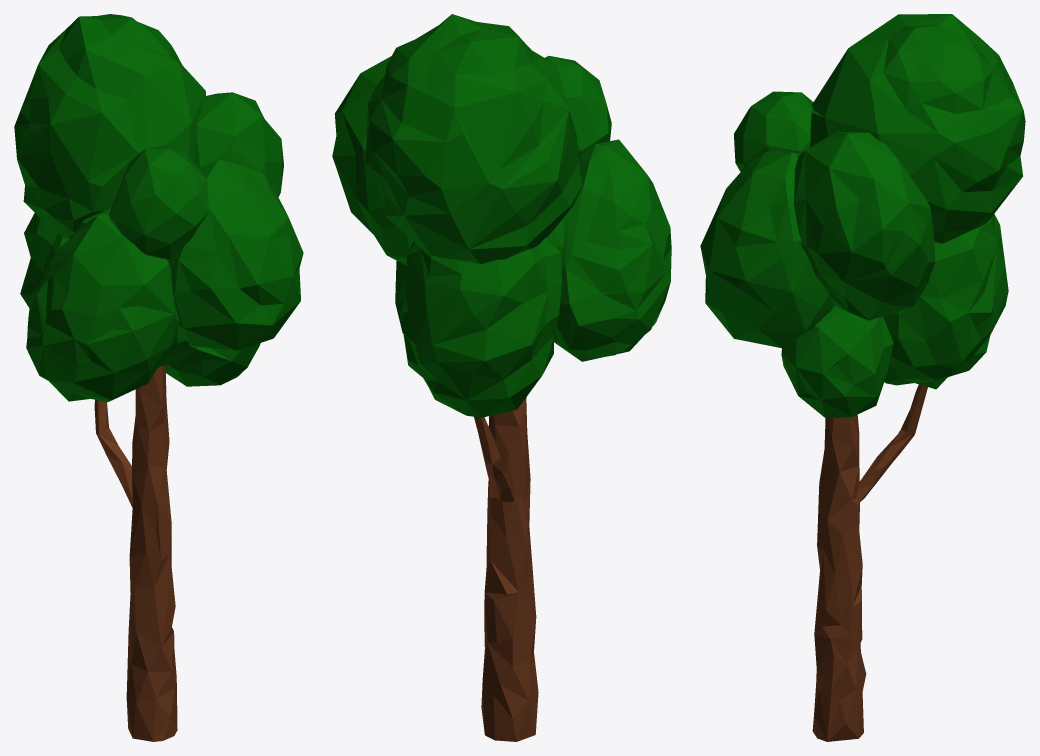
The model's file is Birch.fbx.
3 renders of one model, left to right at view 1: azimuth 30°, elevation 25°; view 2: azimuth 150°, elevation 25°; view 3: azimuth 270°, elevation 25°, orthographic. The views are drawn at different scales.
Visible parts, largest first — view 1: birch.001, birch; view 2: birch.001, birch; view 3: birch.001, birch.
Part boxes in pixels (<box>): birch.001: <box>14,14,303,402</box>; birch: <box>94,365,177,741</box>; birch.001: <box>332,14,671,417</box>; birch: <box>474,397,538,741</box>; birch.001: <box>700,14,1025,418</box>; birch: <box>812,384,927,741</box>.
Size of the model in its own units: 186 by 450 by 185.
